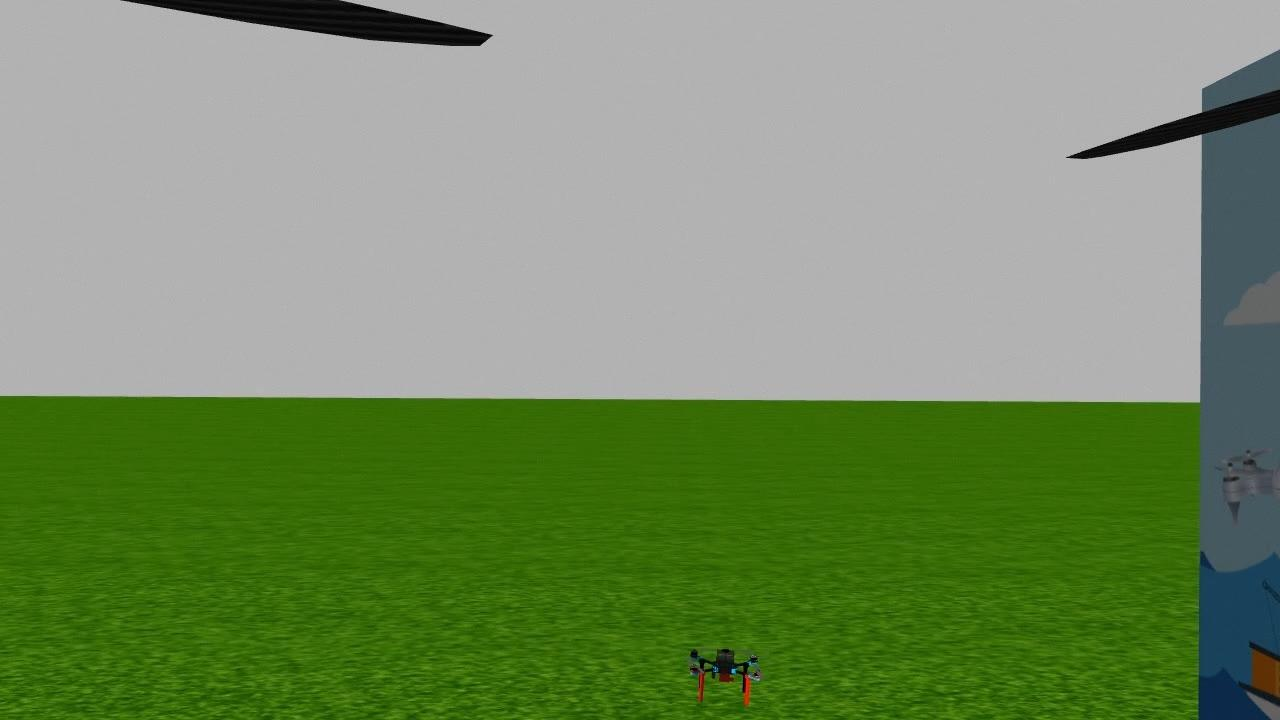UAV: (673, 639, 780, 708)
